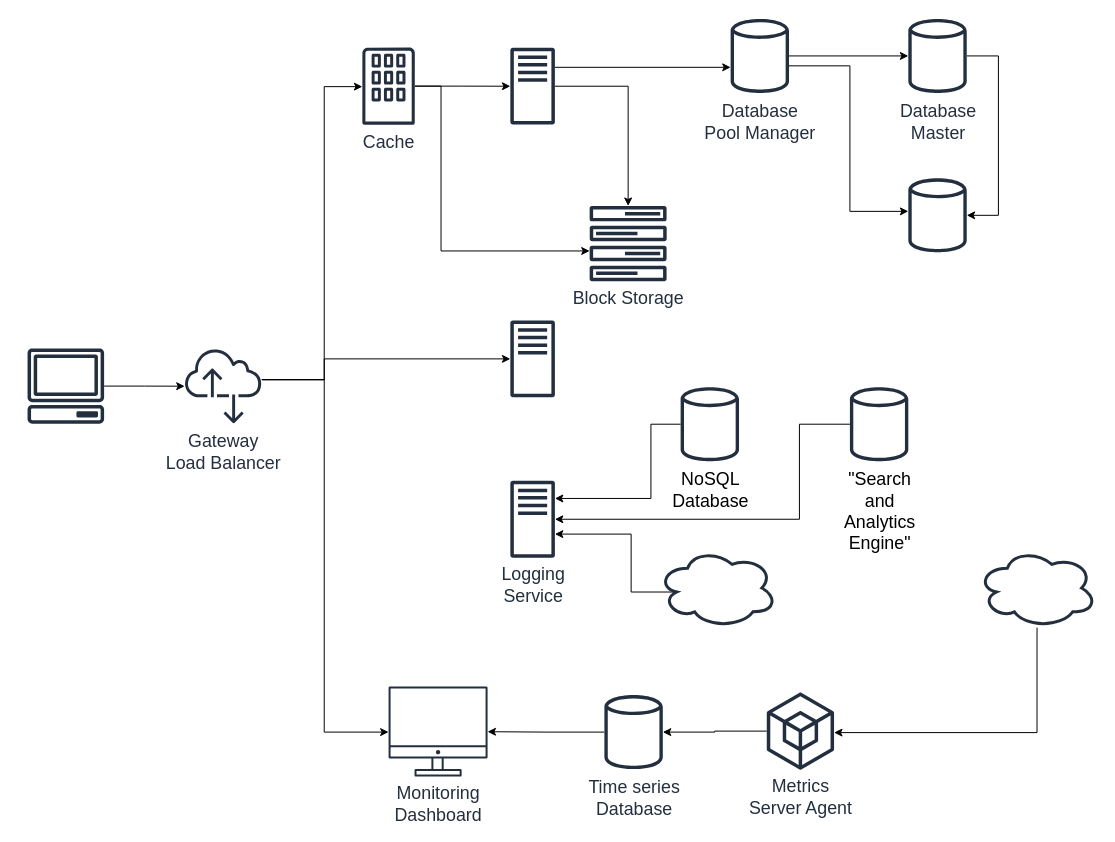
Image size: 1115x842. Some labels were removed from this diagram. The centre of each missing label's shape, as x and y in pixels:
"Client / User" belongs at [65,385].
"Database Slave" belongs at [937,214].
"Frontend" belongs at [532,358].
"Logs" belongs at [717,587].
"Metrics" belongs at [1036,587].
"REST API" belongs at [532,85].
